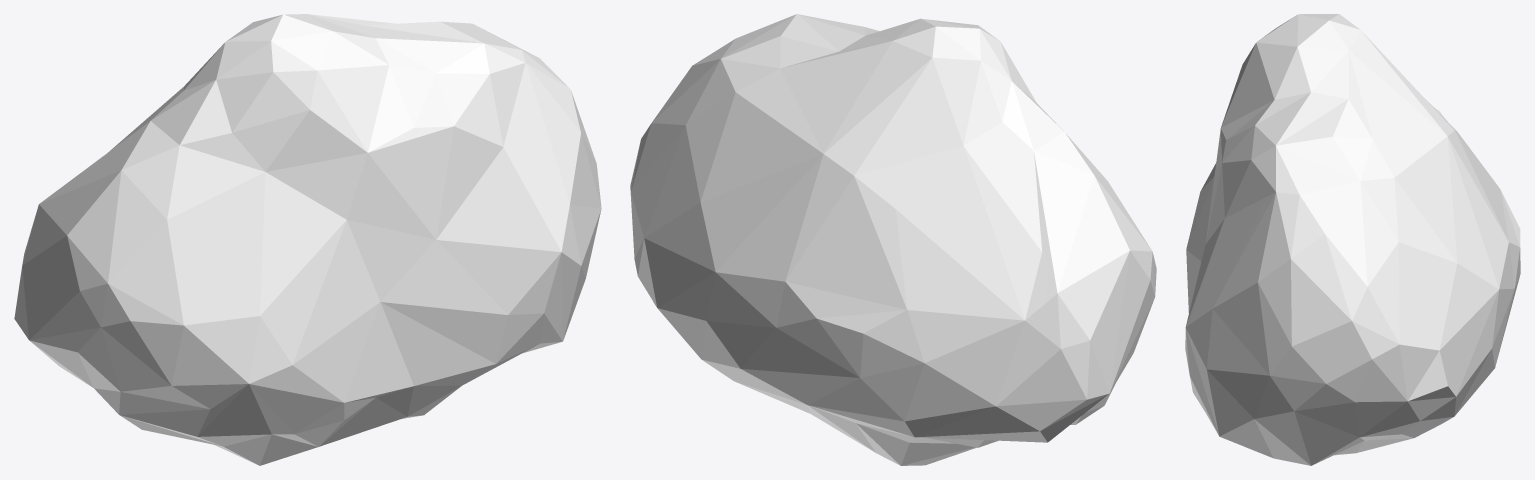
Rendered from Cloud_01.fbx.
The picture shows the model from 3 angles, left to right: view 1: azimuth 30°, elevation 25°; view 2: azimuth 150°, elevation 25°; view 3: azimuth 270°, elevation 25°; orthographic projection. The views are drawn at different scales.
Parts seen in each view (by area): view 1: Cloud_01; view 2: Cloud_01; view 3: Cloud_01.
Boxes of the visible parts, <box> form: Cloud_01: <box>14,14,601,465</box>; Cloud_01: <box>630,14,1156,465</box>; Cloud_01: <box>1185,14,1520,465</box>.
Bounding box in the file's own units: 3.26 × 2.67 × 1.97.
